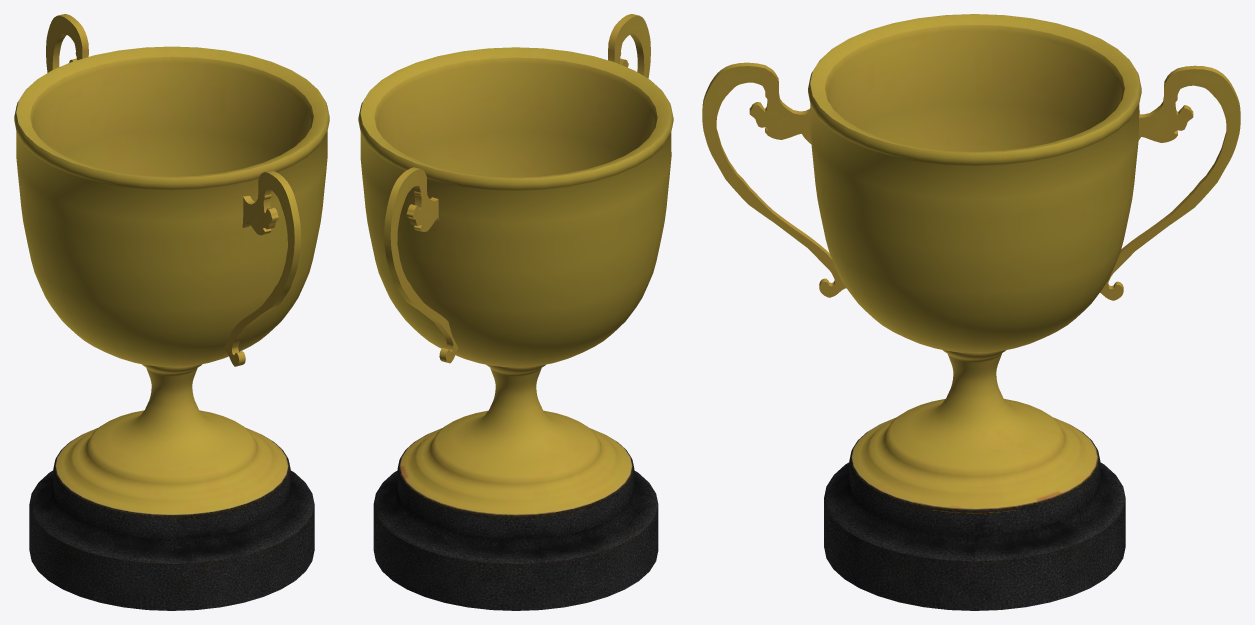
File: trophy2.glb
The picture shows the model from 3 angles, left to right: view 1: azimuth 30°, elevation 25°; view 2: azimuth 150°, elevation 25°; view 3: azimuth 270°, elevation 25°; orthographic projection. The views are drawn at different scales.
Parts seen in each view (by area): view 1: defaultMaterial; view 2: defaultMaterial; view 3: defaultMaterial.
Part boxes in pixels (bbox=[...]): defaultMaterial: bbox=[14, 14, 329, 610]; defaultMaterial: bbox=[358, 14, 673, 610]; defaultMaterial: bbox=[702, 14, 1240, 610].
Size of the model in its own units: 24.98 by 39.74 by 40.29.
1 material, 1 textured.
